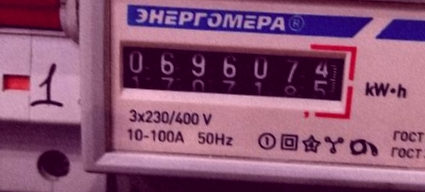0: (124, 46, 143, 72), (249, 52, 267, 79)
4: (312, 55, 327, 77)
5: (310, 77, 326, 97)
6: (218, 50, 236, 78), (155, 47, 174, 73)
7: (280, 55, 298, 82)
9: (186, 49, 205, 77)
screen: (107, 25, 358, 119)
